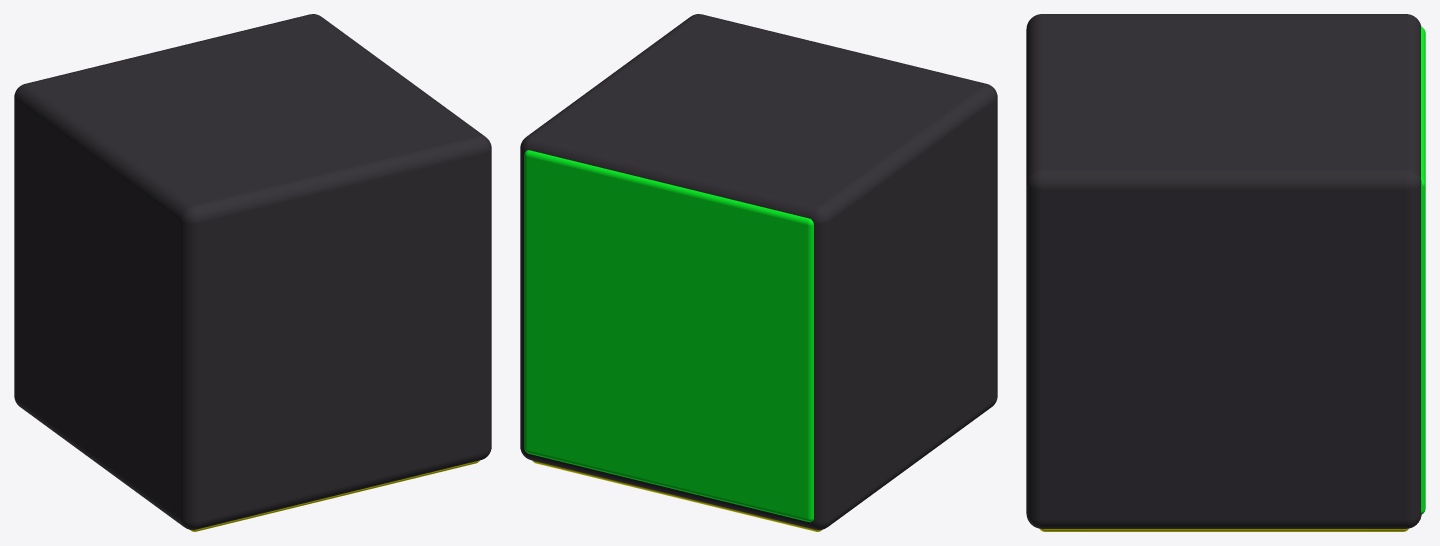
File: ygEdge.obj
The picture shows the model from 3 angles, left to right: view 1: azimuth 30°, elevation 25°; view 2: azimuth 150°, elevation 25°; view 3: azimuth 270°, elevation 25°; orthographic projection. The views are drawn at different scales.
Parts seen in each view (by area): view 1: 000_Base, 001_yellow; view 2: 000_Base, 002_green, 001_yellow; view 3: 000_Base, 002_green, 001_yellow.
Boxes of the visible parts, bbox=[...] form: 000_Base: bbox=[14, 14, 491, 529]; 001_yellow: bbox=[189, 460, 479, 531]; 000_Base: bbox=[520, 14, 997, 529]; 002_green: bbox=[524, 150, 813, 522]; 001_yellow: bbox=[532, 460, 822, 531]; 000_Base: bbox=[1026, 14, 1421, 528]; 002_green: bbox=[1421, 27, 1425, 514]; 001_yellow: bbox=[1039, 528, 1408, 531].
Bounding box in the file's own units: 100 × 101 × 101.
